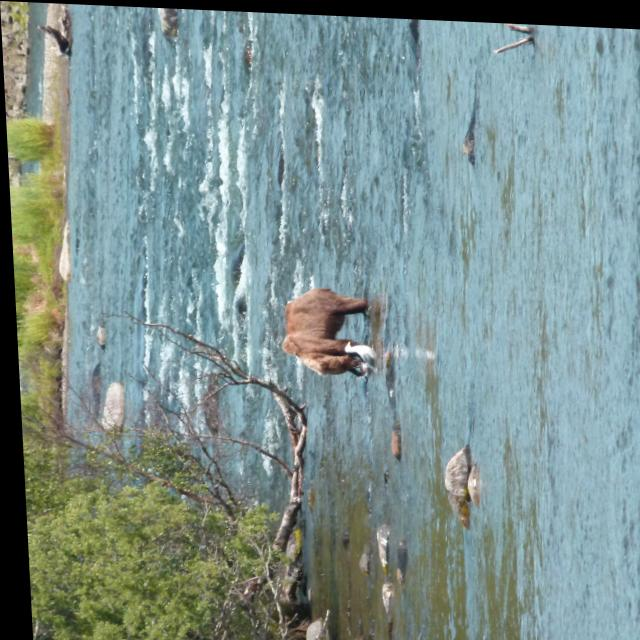bear face: (274, 285, 361, 372)
